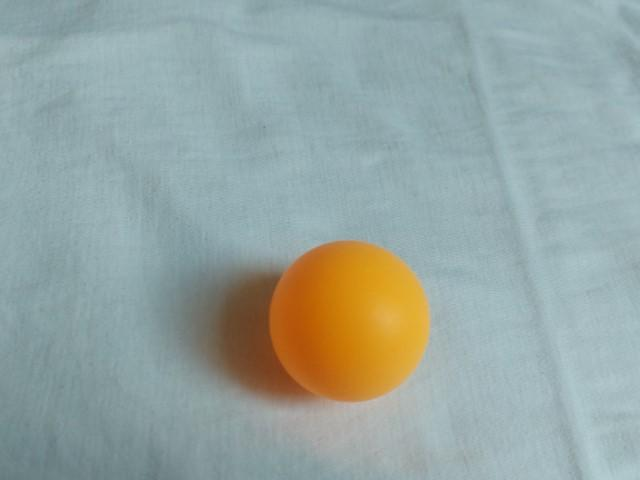oball: (257, 233, 443, 412)
